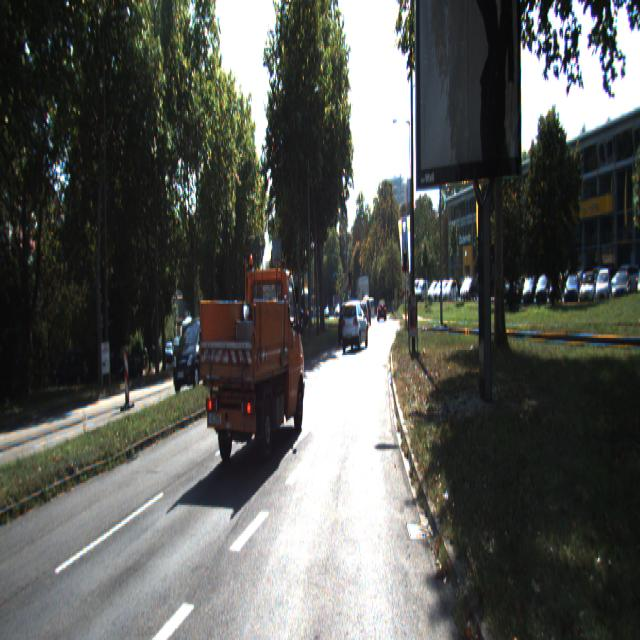Car: (245, 318, 295, 398), (172, 315, 218, 394), (341, 301, 368, 354), (338, 304, 358, 346)
DontCare: (411, 269, 639, 320), (53, 350, 87, 388), (111, 347, 148, 377), (366, 292, 387, 320), (321, 304, 341, 322), (162, 340, 170, 364)
Van: (195, 248, 308, 469), (273, 291, 291, 343)
